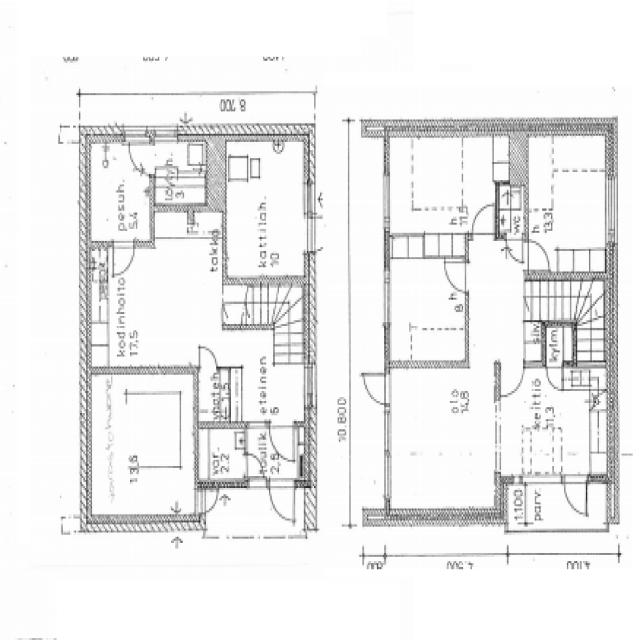door: (268, 477, 298, 526), (125, 130, 153, 179), (268, 420, 298, 465), (562, 473, 590, 519), (361, 368, 392, 408), (497, 361, 527, 400), (442, 256, 470, 295), (469, 201, 497, 239), (524, 238, 552, 275), (110, 240, 136, 279), (196, 342, 220, 374), (198, 484, 220, 516), (243, 451, 266, 481), (544, 362, 565, 394), (504, 236, 526, 266), (154, 126, 177, 147)
window: (602, 170, 620, 250), (380, 405, 394, 484), (379, 264, 394, 332), (491, 406, 505, 476), (301, 359, 318, 414), (380, 167, 393, 230), (302, 213, 320, 256), (302, 176, 318, 221)
zone: (84, 241, 222, 370), (391, 362, 496, 518), (88, 372, 195, 524), (497, 361, 606, 479), (529, 130, 613, 280), (226, 137, 310, 285), (388, 132, 508, 235), (385, 242, 468, 366), (88, 142, 154, 245), (152, 138, 207, 210), (195, 425, 247, 486), (197, 369, 234, 426), (497, 183, 527, 238), (59, 514, 82, 535)
